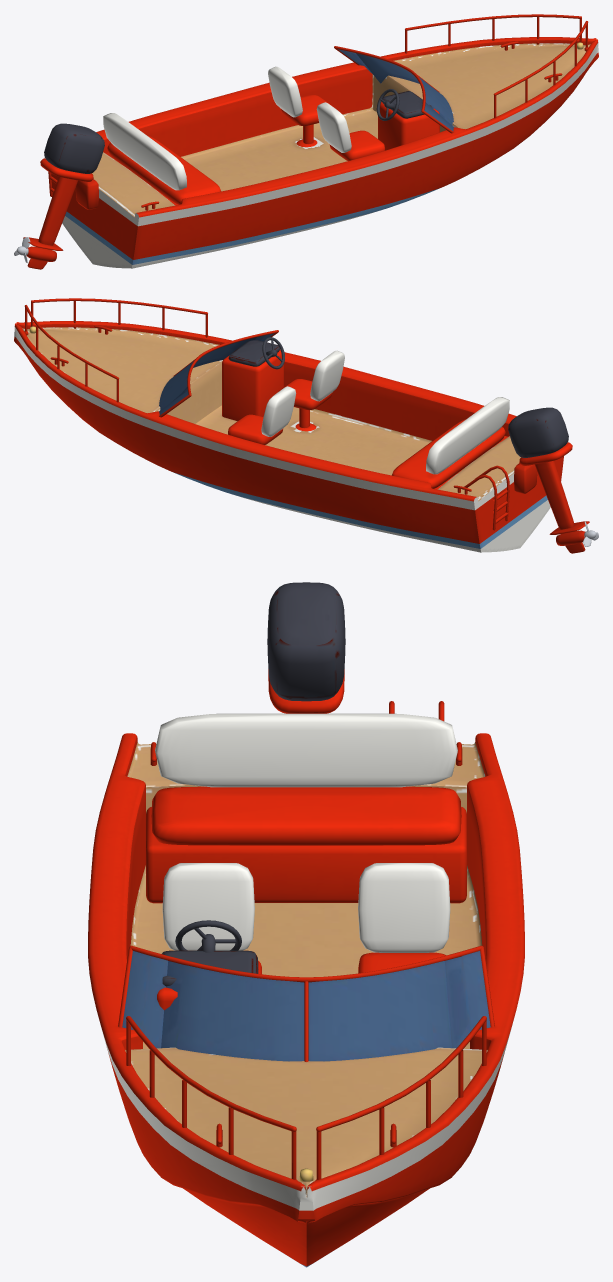
The model's file is lancha-ventura-195-2012.glb.
3 views of the same model, one above another, from view 1: azimuth 30°, elevation 25°; view 2: azimuth 150°, elevation 25°; view 3: azimuth 270°, elevation 25° (orthographic). The views are drawn at different scales.
Parts seen in each view (by area): view 1: motorboat_body, motorboat_steering_wheel; view 2: motorboat_body, motorboat_steering_wheel; view 3: motorboat_body, motorboat_steering_wheel.
Boxes of the visible parts, x1,y1,x2,y2 form: motorboat_body: (23,14,598,269); motorboat_steering_wheel: (376,89,399,120); motorboat_body: (14,298,589,553); motorboat_steering_wheel: (262,337,284,369); motorboat_body: (88,582,524,1267); motorboat_steering_wheel: (175,920,241,952).
Size of the model in its own units: 5.94 by 1.45 by 1.94.
3 materials, 1 textured.
